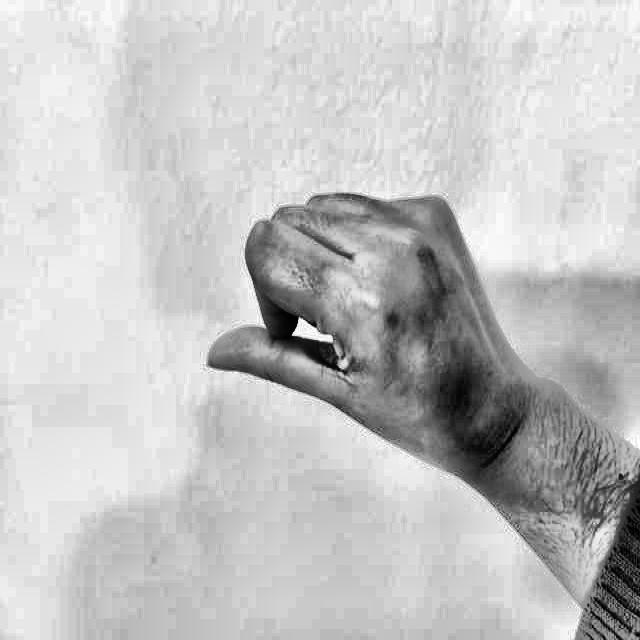Ay: (189, 130, 491, 518)
